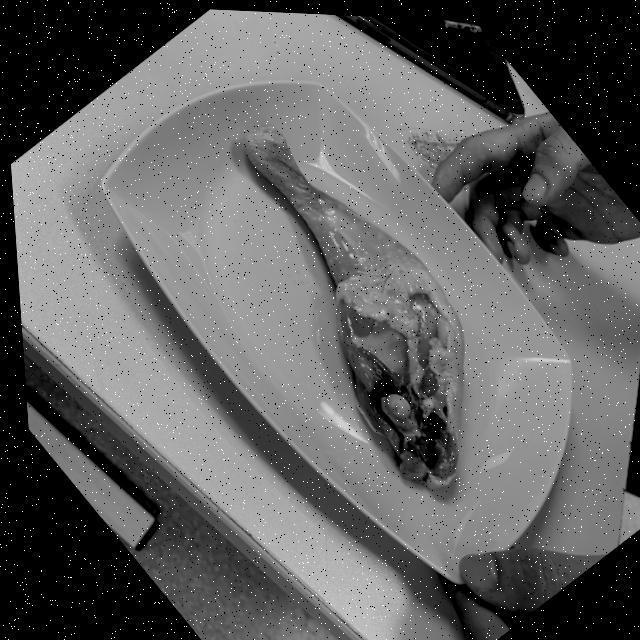quater: (233, 124, 470, 493)
